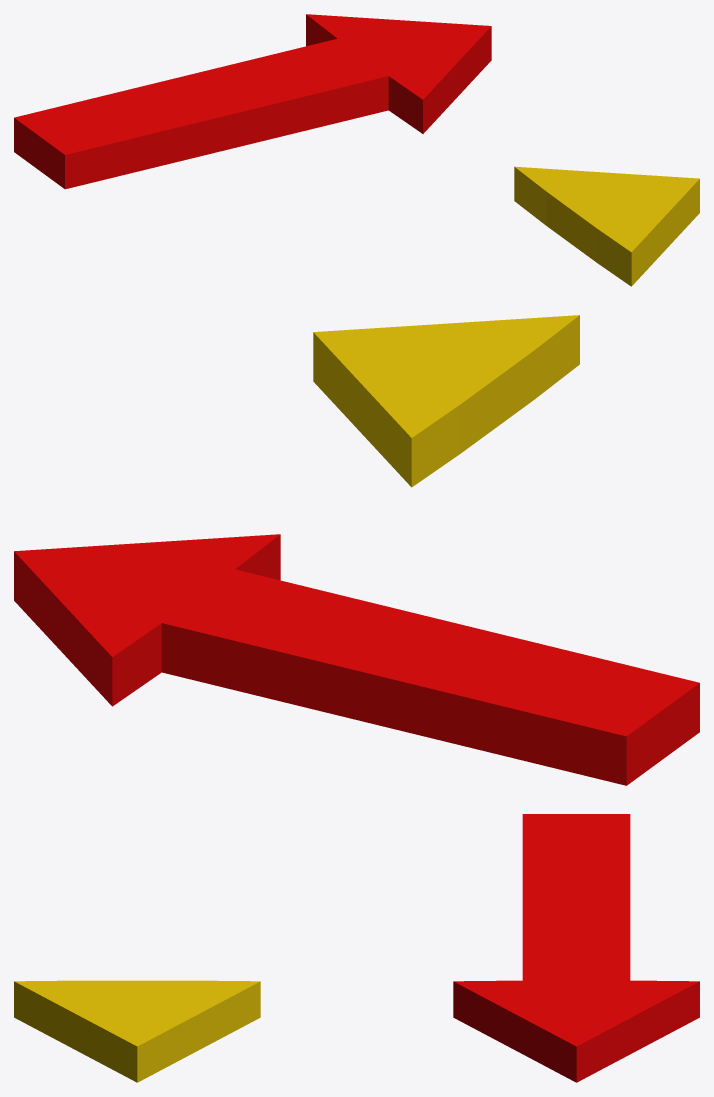
The model's file is Arrows.fbx.
3 views of the same model, one above another, from view 1: azimuth 30°, elevation 25°; view 2: azimuth 150°, elevation 25°; view 3: azimuth 270°, elevation 25° (orthographic). The views are drawn at different scales.
Visible parts, largest first — view 1: Cube.001, Cube.010; view 2: Cube.001, Cube.010; view 3: Cube.001, Cube.010.
Part boxes in pixels (x1=…): Cube.001: x1=14, y1=14, x2=491, y2=189; Cube.010: x1=514, y1=166, x2=699, y2=286; Cube.001: x1=14, y1=534, x2=699, y2=785; Cube.010: x1=313, y1=315, x2=579, y2=487; Cube.001: x1=453, y1=814, x2=699, y2=1082; Cube.010: x1=14, y1=980, x2=260, y2=1082.
Bounding box in the file's own units: 58.21 × 4.23 × 72.6.
